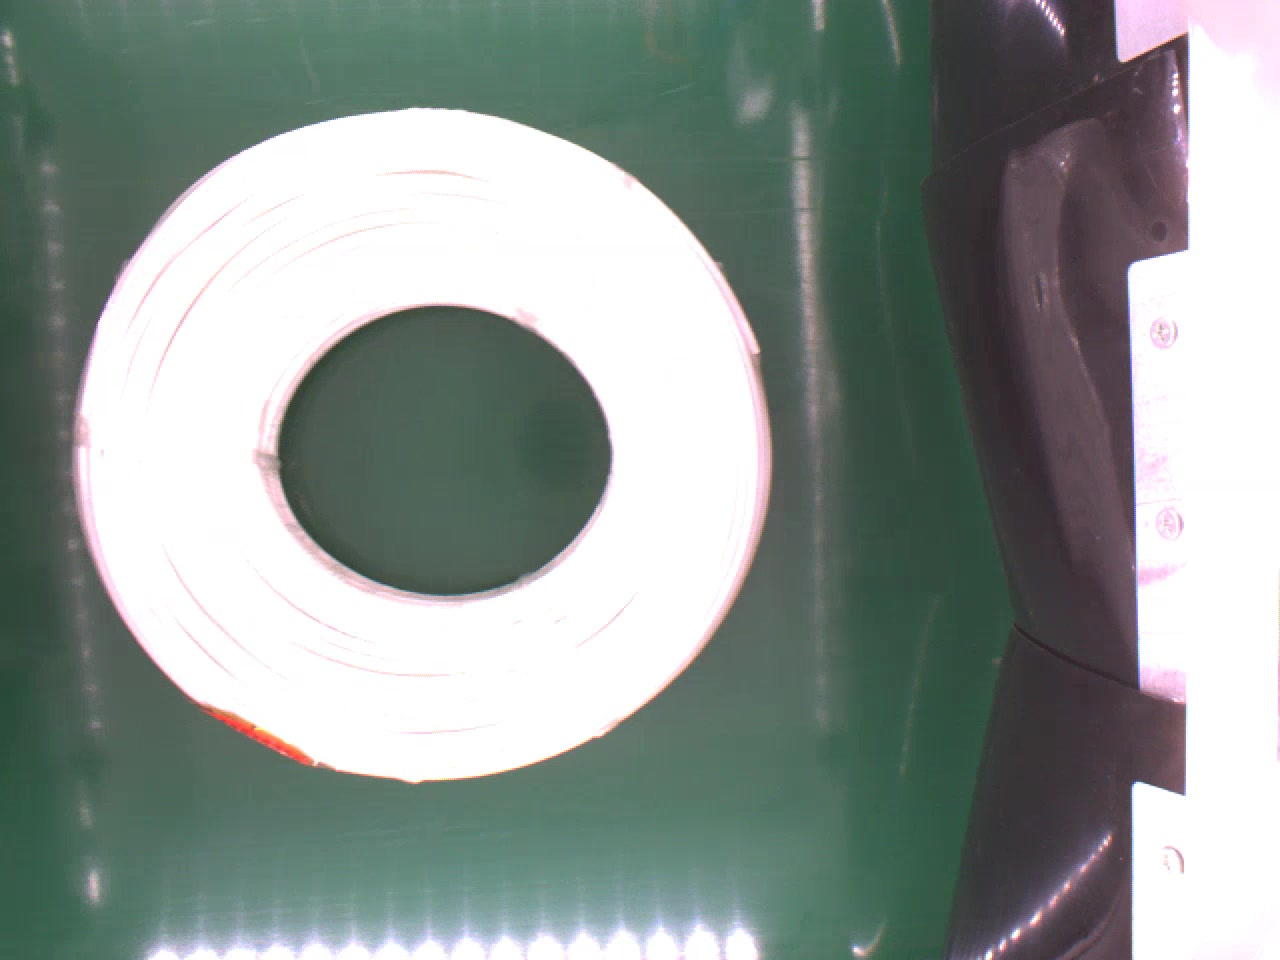white: (60, 97, 767, 775)
